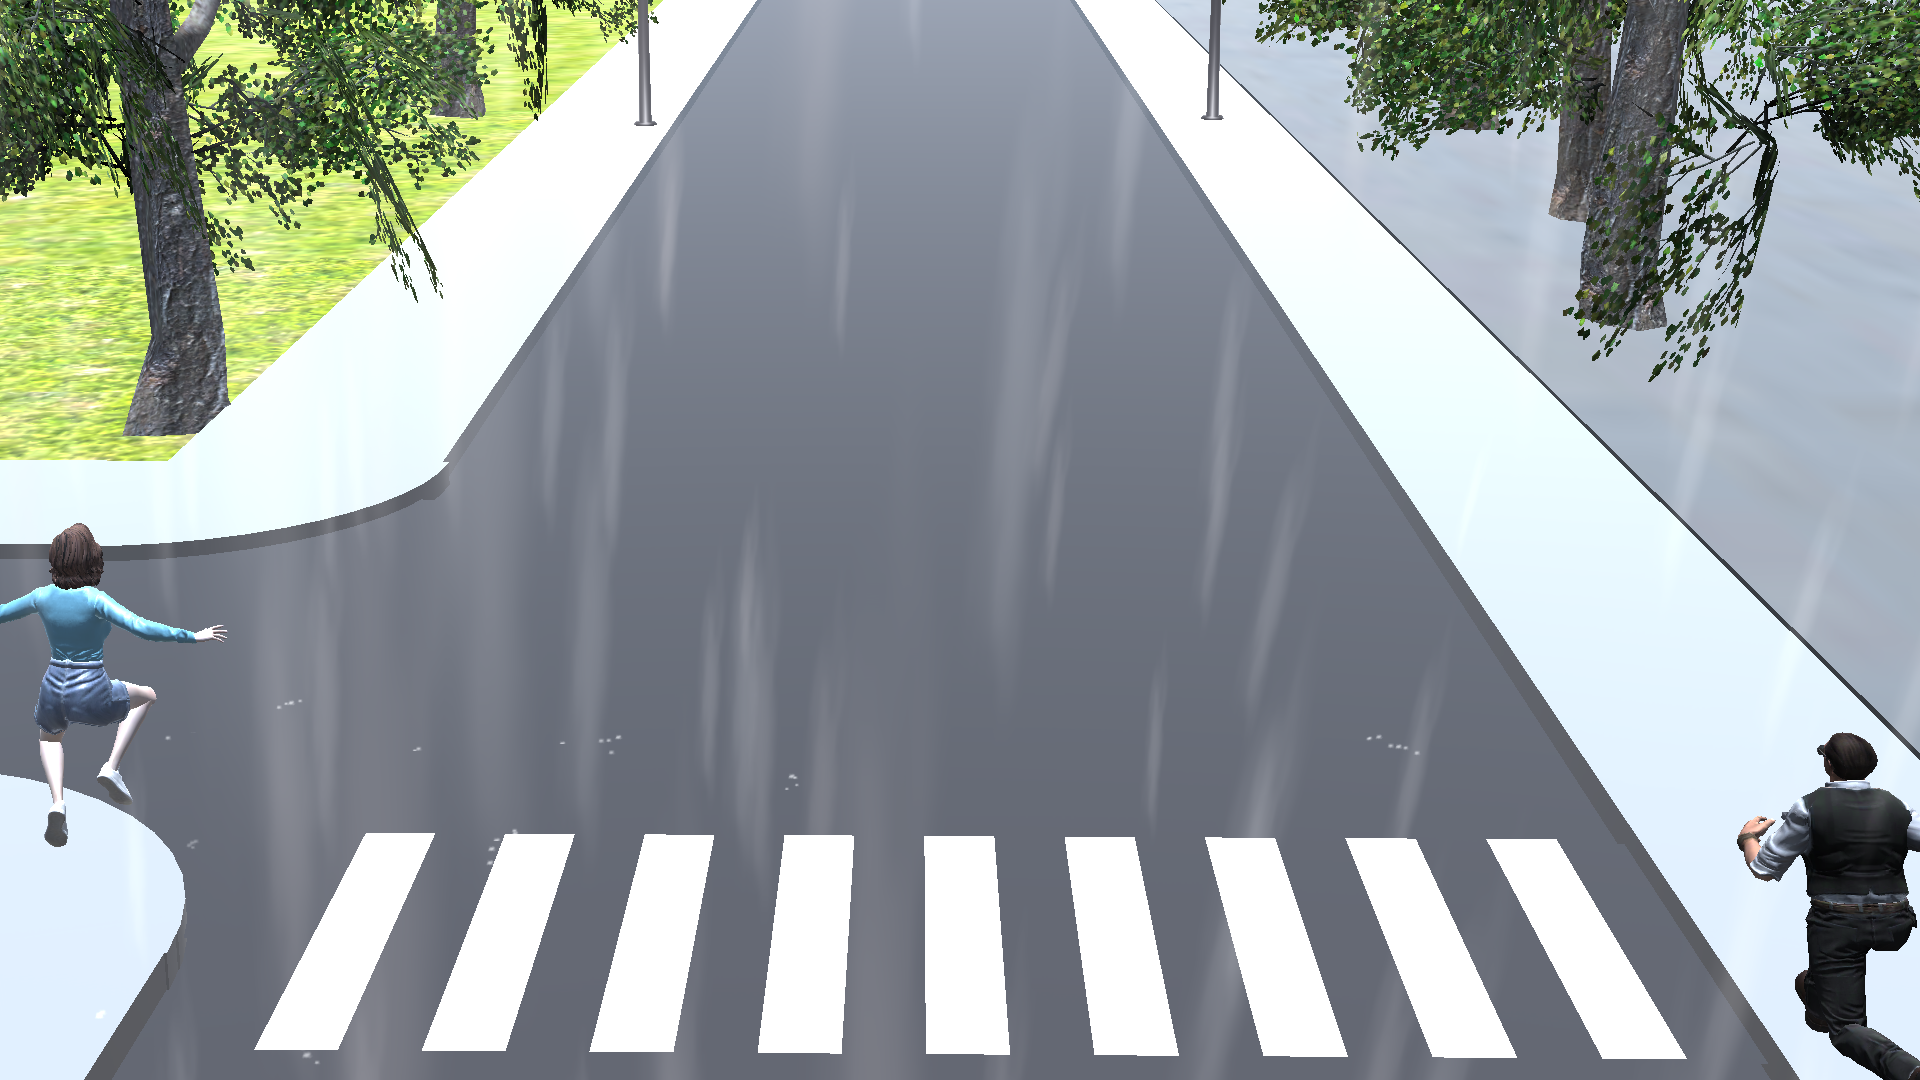pedestrian: (1, 518, 227, 848), (1722, 720, 1920, 1080)
